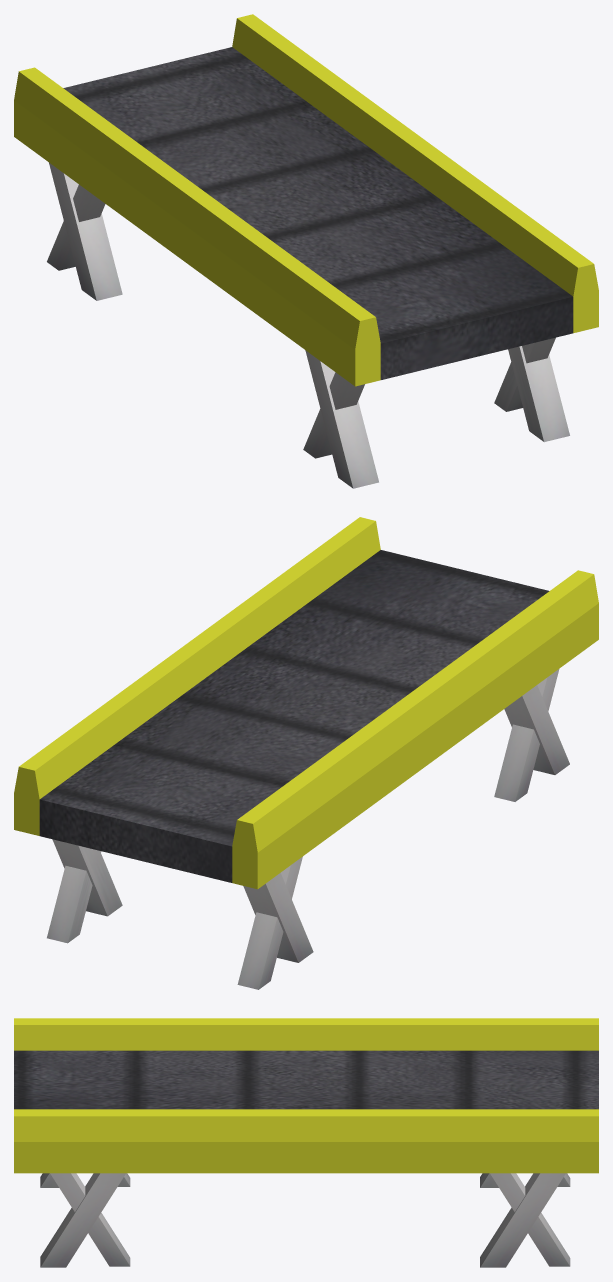
Rendered from EsteirasReta.fbx.
The picture shows the model from 3 angles, top to bottom: view 1: azimuth 30°, elevation 25°; view 2: azimuth 150°, elevation 25°; view 3: azimuth 270°, elevation 25°; orthographic projection. The views are drawn at different scales.
Parts seen in each view (by area): view 1: Cube.001; view 2: Cube.001; view 3: Cube.001.
Boxes of the visible parts, box(x1,y1,x2,y2) form: Cube.001: box(14, 14, 598, 488); Cube.001: box(14, 517, 598, 989); Cube.001: box(14, 1018, 598, 1267).
Size of the model in its own units: 200 by 142 by 485.
